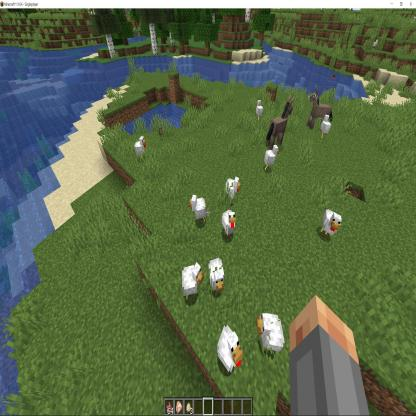minecraft-pigs: (21, 186, 57, 250), (186, 178, 207, 216)
